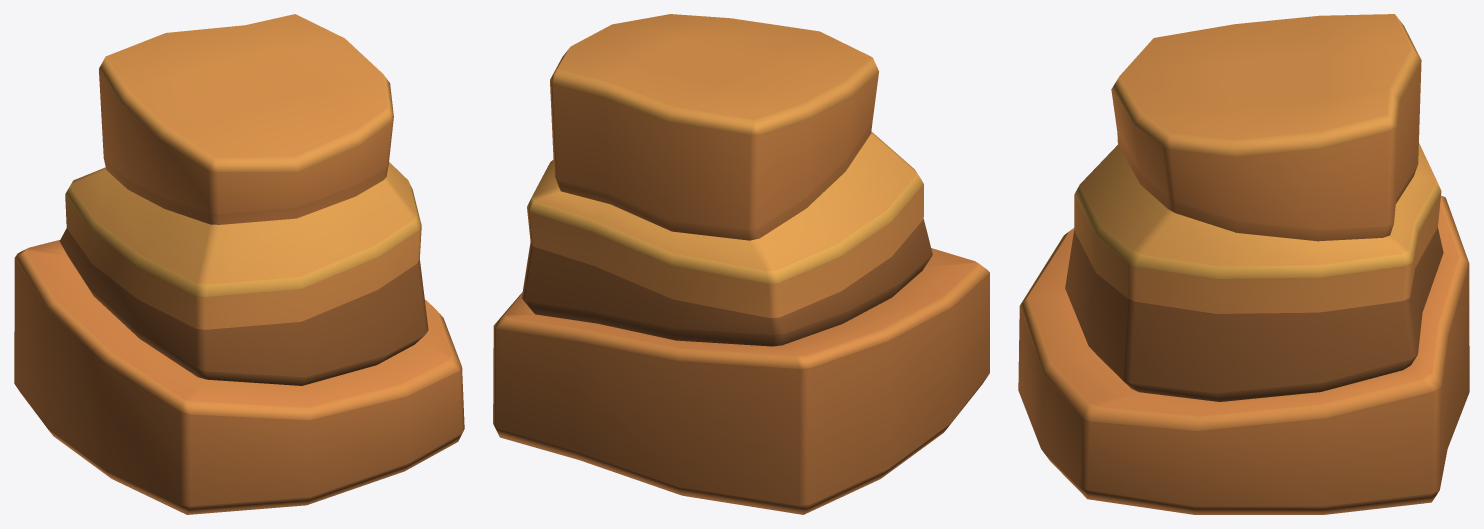
The model's file is rock_formation_light_10.fbx.
3 renders of one model, left to right at view 1: azimuth 30°, elevation 25°; view 2: azimuth 150°, elevation 25°; view 3: azimuth 270°, elevation 25°, orthographic. The views are drawn at different scales.
Visible parts, largest first — view 1: rock_formation_light_10; view 2: rock_formation_light_10; view 3: rock_formation_light_10.
Part boxes in pixels (bbox=[...]): rock_formation_light_10: bbox=[14, 14, 464, 514]; rock_formation_light_10: bbox=[493, 14, 989, 514]; rock_formation_light_10: bbox=[1018, 14, 1469, 514].
Bounding box in the file's own units: 416 × 392 × 431.
